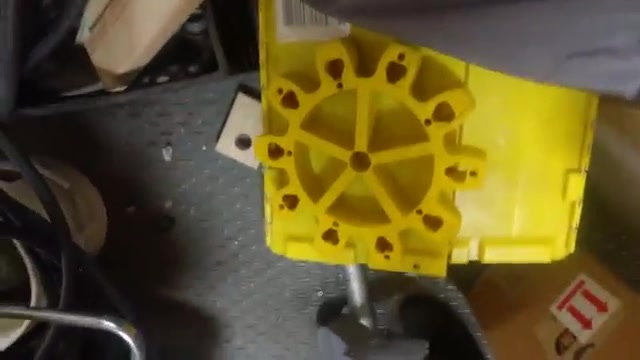gear: (257, 32, 497, 277)
